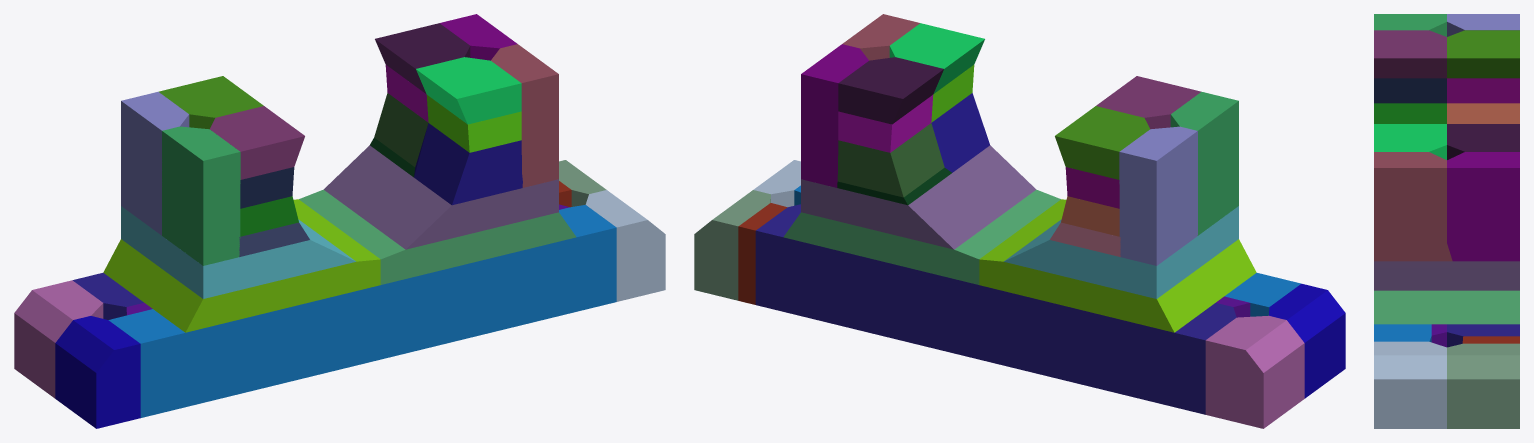
File: 2_canonical.obj
3 views of the same model, side by side, from view 1: azimuth 30°, elevation 25°; view 2: azimuth 150°, elevation 25°; view 3: azimuth 270°, elevation 25° (orthographic). The views are drawn at different scales.
Parts seen in each view (by area): view 1: geometry_29, geometry_4, geometry_1, geometry_10, geometry_5, geometry_3, geometry_2, geometry_12, geometry_20, geometry_7, geometry_13, geometry_23 (+13 smaller); view 2: geometry_18, geometry_4, geometry_1, geometry_12, geometry_7, geometry_3, geometry_2, geometry_10, geometry_11, geometry_26, geometry_5, geometry_19 (+15 smaller); view 3: geometry_13, geometry_11, geometry_6, geometry_0, geometry_3, geometry_1, geometry_28, geometry_30, geometry_26, geometry_23, geometry_14, geometry_21 (+8 smaller).
Part boxes in pixels (x1,y1,x2,y2): geometry_29: (108,205,616,417); geometry_4: (103,199,380,332); geometry_1: (324,145,558,249); geometry_10: (162,126,240,265); geometry_5: (55,316,140,428); geometry_3: (299,189,576,284); geometry_2: (121,206,355,298); geometry_12: (121,91,189,235); geometry_20: (414,123,522,205); geometry_7: (14,280,103,398); geometry_13: (491,44,558,187); geometry_23: (416,57,521,124); geometry_18: (755,204,1236,414); geometry_4: (979,199,1256,332); geometry_1: (801,145,1035,249); geometry_12: (1119,126,1197,265); geometry_7: (1205,315,1304,428); geometry_3: (783,189,1060,284); geometry_2: (1004,206,1238,298); geometry_10: (1170,91,1238,235); geometry_11: (801,44,868,187); geometry_26: (838,57,943,124); geometry_5: (1269,283,1345,398); geometry_19: (837,123,944,197); geometry_13: (1374,152,1452,261); geometry_11: (1447,152,1519,261); geometry_6: (1374,341,1446,428); geometry_0: (1447,343,1519,428); geometry_3: (1374,290,1519,324); geometry_1: (1374,261,1519,290); geometry_28: (1374,30,1446,78); geometry_30: (1447,30,1519,78); geometry_26: (1447,124,1519,159); geometry_23: (1374,124,1446,159); geometry_14: (1447,78,1519,103); geometry_21: (1374,78,1446,103).
Bounding box in the file's own units: 0.16 × 0.065 × 0.04.
